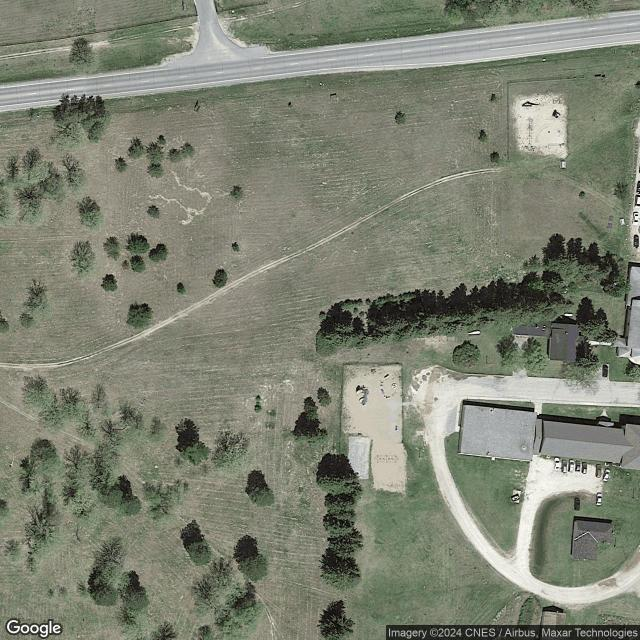Propane: (467, 330, 481, 336), (564, 312, 573, 317)
